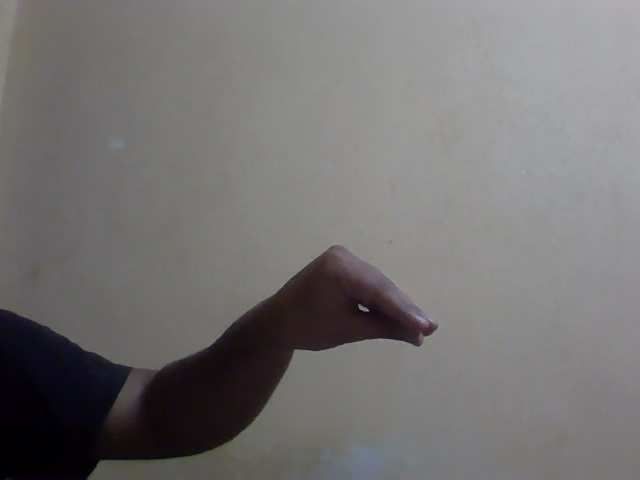No: (213, 229, 484, 395)
